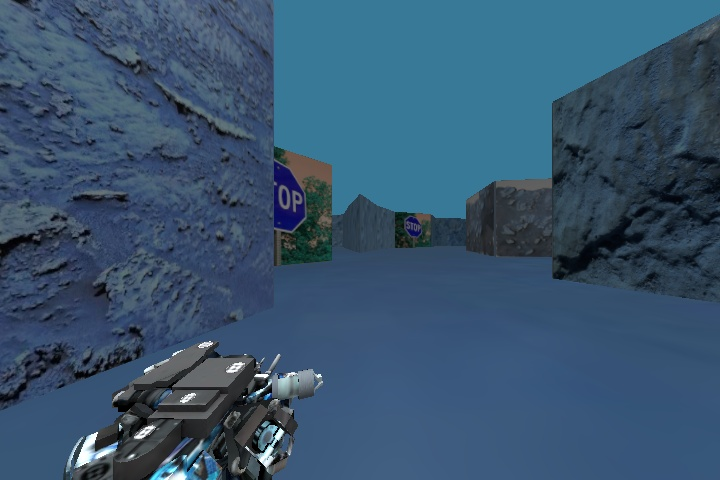stop_sign: (262, 151, 314, 240), (399, 214, 427, 241)
